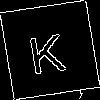K: (24, 24, 68, 76)
